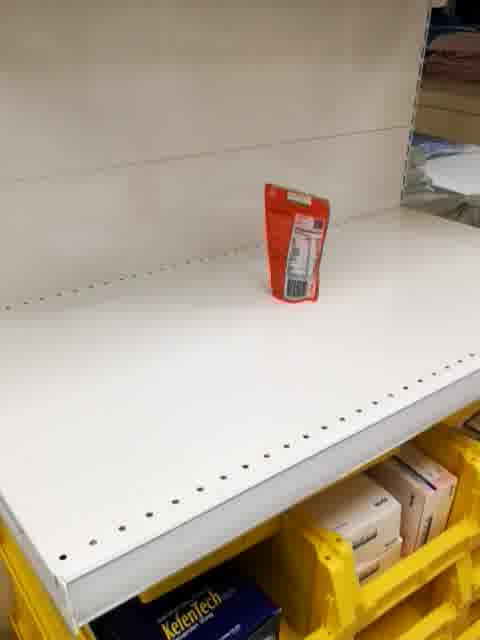whitechia: (261, 177, 330, 308)
